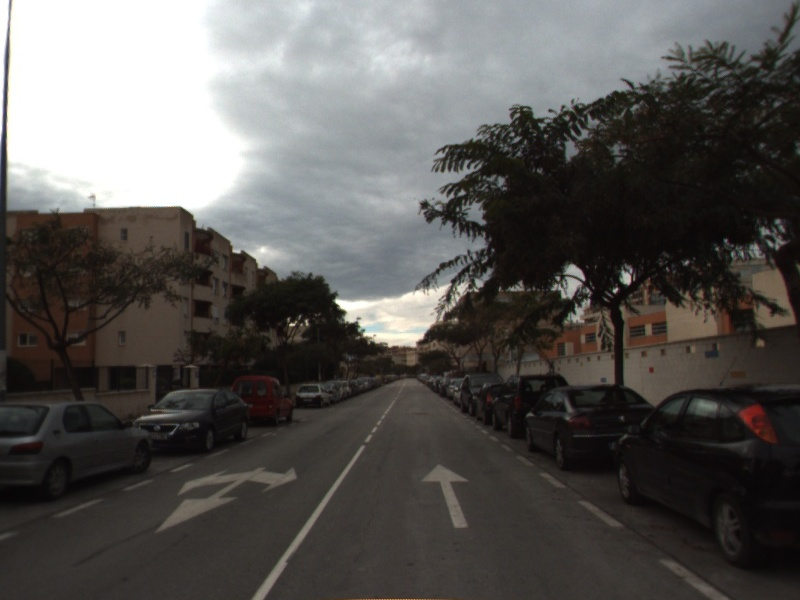STRAIGHT: (419, 462, 472, 530)
